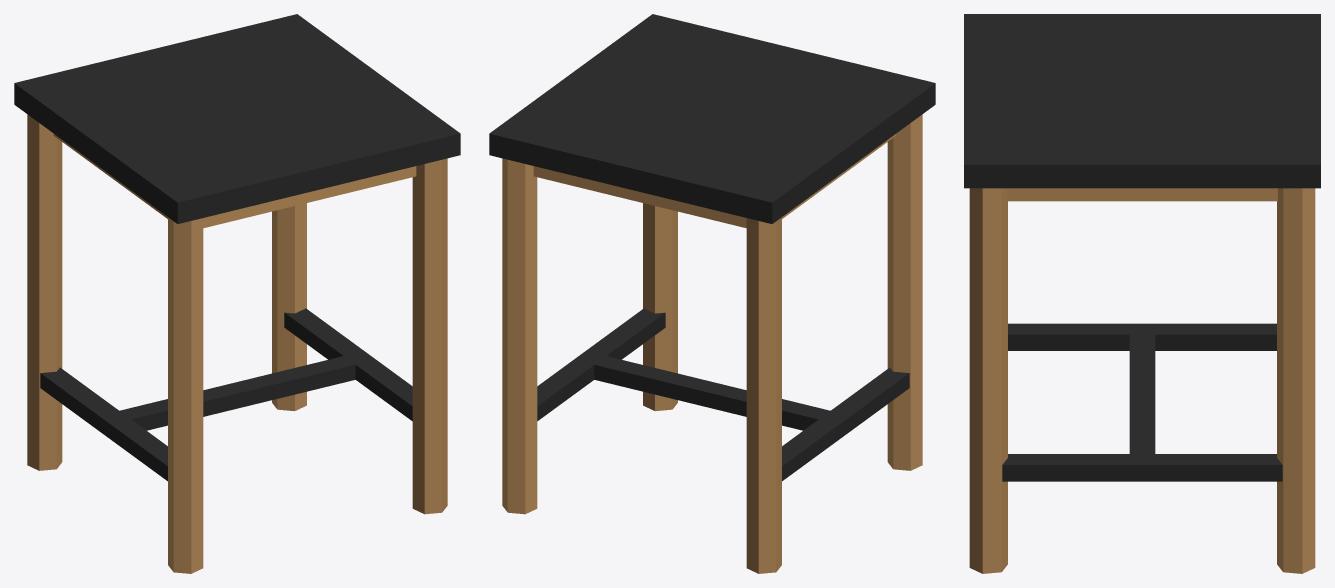
The model's file is staticmesh_endtable.gltf.
3 renders of one model, left to right at view 1: azimuth 30°, elevation 25°; view 2: azimuth 150°, elevation 25°; view 3: azimuth 270°, elevation 25°, orthographic. The views are drawn at different scales.
Parts seen in each view (by area): view 1: table-bar-square.001; view 2: table-bar-square.001; view 3: table-bar-square.001.
Part boxes in pixels (box(x1,y1,x2,y2)): table-bar-square.001: box(14, 14, 460, 573); table-bar-square.001: box(489, 14, 935, 573); table-bar-square.001: box(964, 14, 1320, 573).
Size of the model in its own units: 0.825 by 1.05 by 0.825.
1 material, 1 textured.
